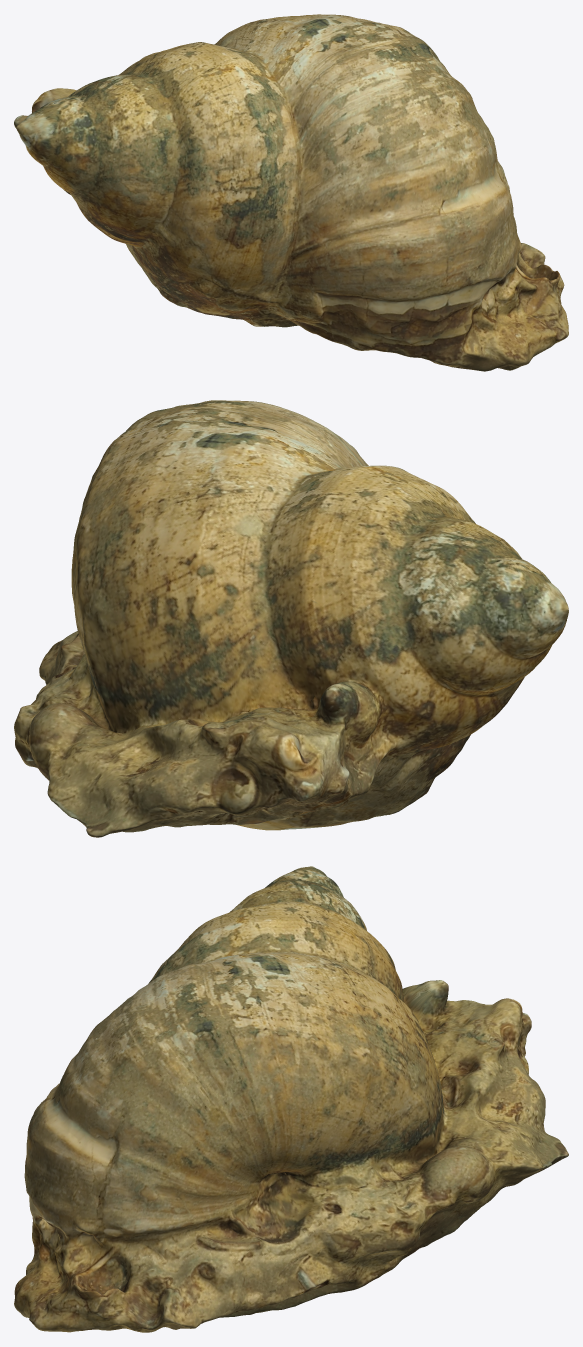
The picture shows the model from 3 angles, top to bottom: view 1: azimuth 30°, elevation 25°; view 2: azimuth 150°, elevation 25°; view 3: azimuth 270°, elevation 25°; orthographic projection. The views are drawn at different scales.
Parts seen in each view (by area): view 1: Model; view 2: Model; view 3: Model.
Boxes of the visible parts, x1,y1,x2,y2 form: Model: [14, 14, 568, 371]; Model: [14, 400, 568, 837]; Model: [14, 866, 568, 1332].
Size of the model in its own units: 2.09 by 1.22 by 2.01.
1 material, 1 textured.
